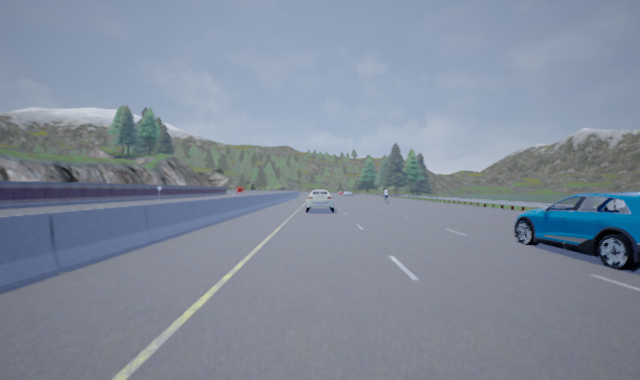vehicle: (515, 192, 639, 270), (304, 189, 335, 212)
